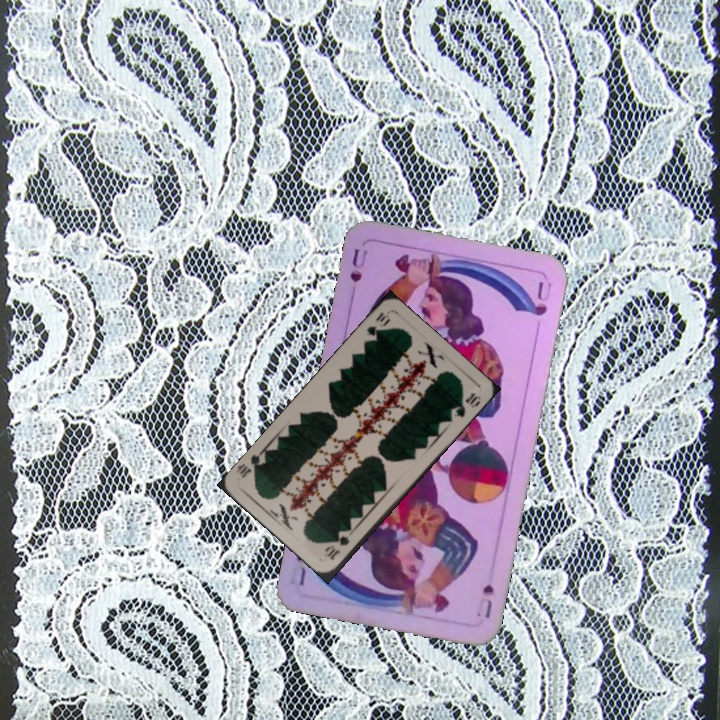G10: (321, 532, 352, 563), (362, 308, 393, 339)
SU: (346, 244, 370, 301), (472, 580, 497, 621)
